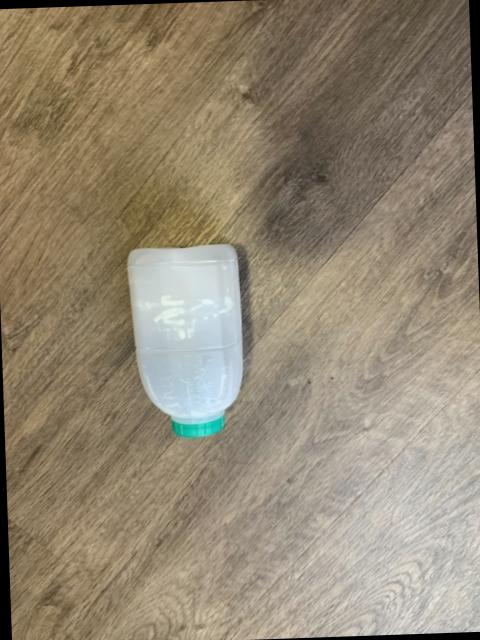plastic: (126, 245, 240, 437)
